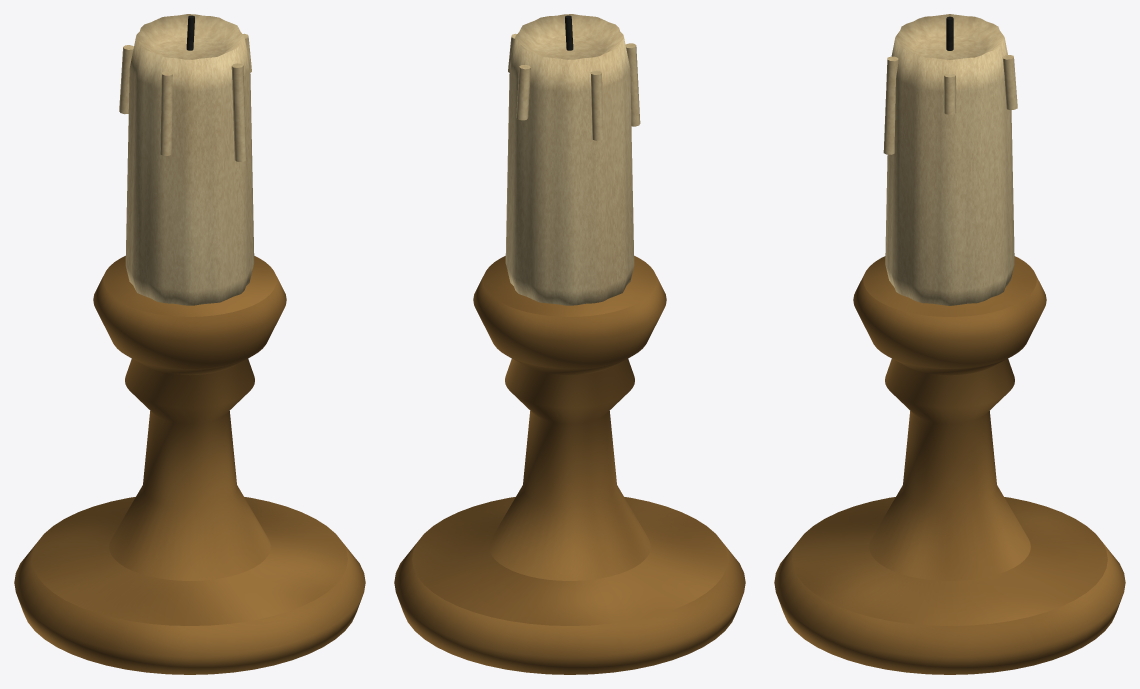
Rendered from Candlestick.fbx.
3 renders of one model, left to right at view 1: azimuth 30°, elevation 25°; view 2: azimuth 150°, elevation 25°; view 3: azimuth 270°, elevation 25°, orthographic.
Visible parts, largest first — view 1: Candlestick_Brass, Candlestick_Wax; view 2: Candlestick_Brass, Candlestick_Wax; view 3: Candlestick_Brass, Candlestick_Wax.
Part boxes in pixels (box(x1,y1,x2,y2)): Candlestick_Brass: box(14, 255, 365, 674); Candlestick_Wax: box(119, 14, 254, 305); Candlestick_Brass: box(394, 255, 745, 674); Candlestick_Wax: box(505, 14, 640, 305); Candlestick_Brass: box(774, 256, 1125, 674); Candlestick_Wax: box(883, 14, 1017, 305).
Size of the model in its own units: 17.8 by 32.81 by 17.8.
